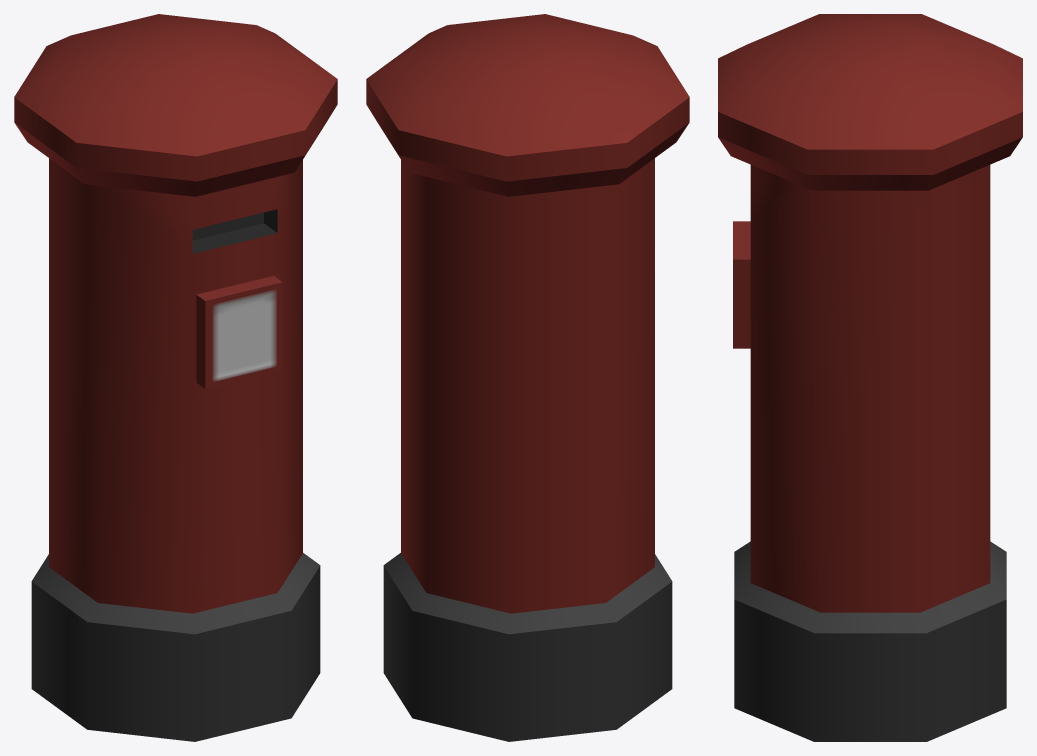
File: Mailbox_01.fbx
The picture shows the model from 3 angles, left to right: view 1: azimuth 30°, elevation 25°; view 2: azimuth 150°, elevation 25°; view 3: azimuth 270°, elevation 25°; orthographic projection.
Parts seen in each view (by area): view 1: Mailbox_01; view 2: Mailbox_01; view 3: Mailbox_01.
Boxes of the visible parts, bbox=[...] form: Mailbox_01: bbox=[14, 14, 337, 741]; Mailbox_01: bbox=[366, 14, 689, 741]; Mailbox_01: bbox=[718, 14, 1022, 741].
Bounding box in the file's own units: 69.3 × 160 × 69.3.
1 material, 1 textured.
